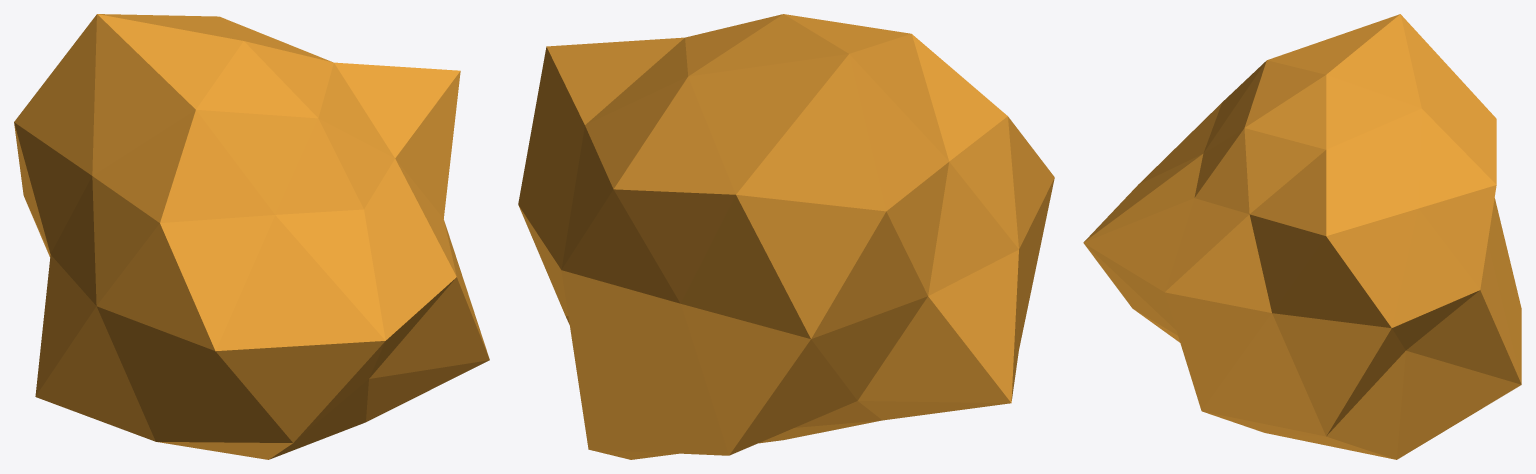
File: Asteroid2.fbx
3 views of the same model, side by side, from view 1: azimuth 30°, elevation 25°; view 2: azimuth 150°, elevation 25°; view 3: azimuth 270°, elevation 25° (orthographic). The views are drawn at different scales.
Parts seen in each view (by area): view 1: Asteroid2; view 2: Asteroid2; view 3: Asteroid2.
Part boxes in pixels (x1,y1,x2,y2): Asteroid2: (14, 14, 489, 459); Asteroid2: (518, 14, 1054, 459); Asteroid2: (1083, 14, 1521, 459).
Size of the model in its own units: 219 by 208 by 228.
